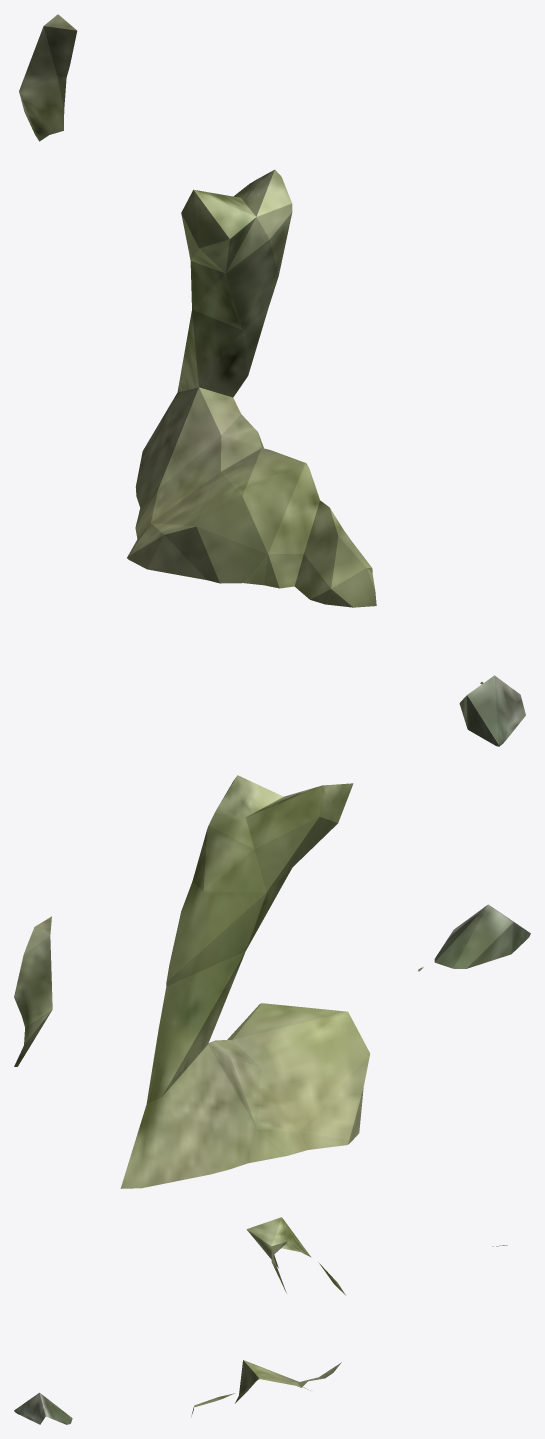
3 renders of one model, top to bottom at view 1: azimuth 30°, elevation 25°; view 2: azimuth 150°, elevation 25°; view 3: azimuth 270°, elevation 25°, orthographic. The views are drawn at different scales.
Size of the model in its own units: 2.09 by 5.35 by 13.5.
Materials: 1 (1 with a texture image).
